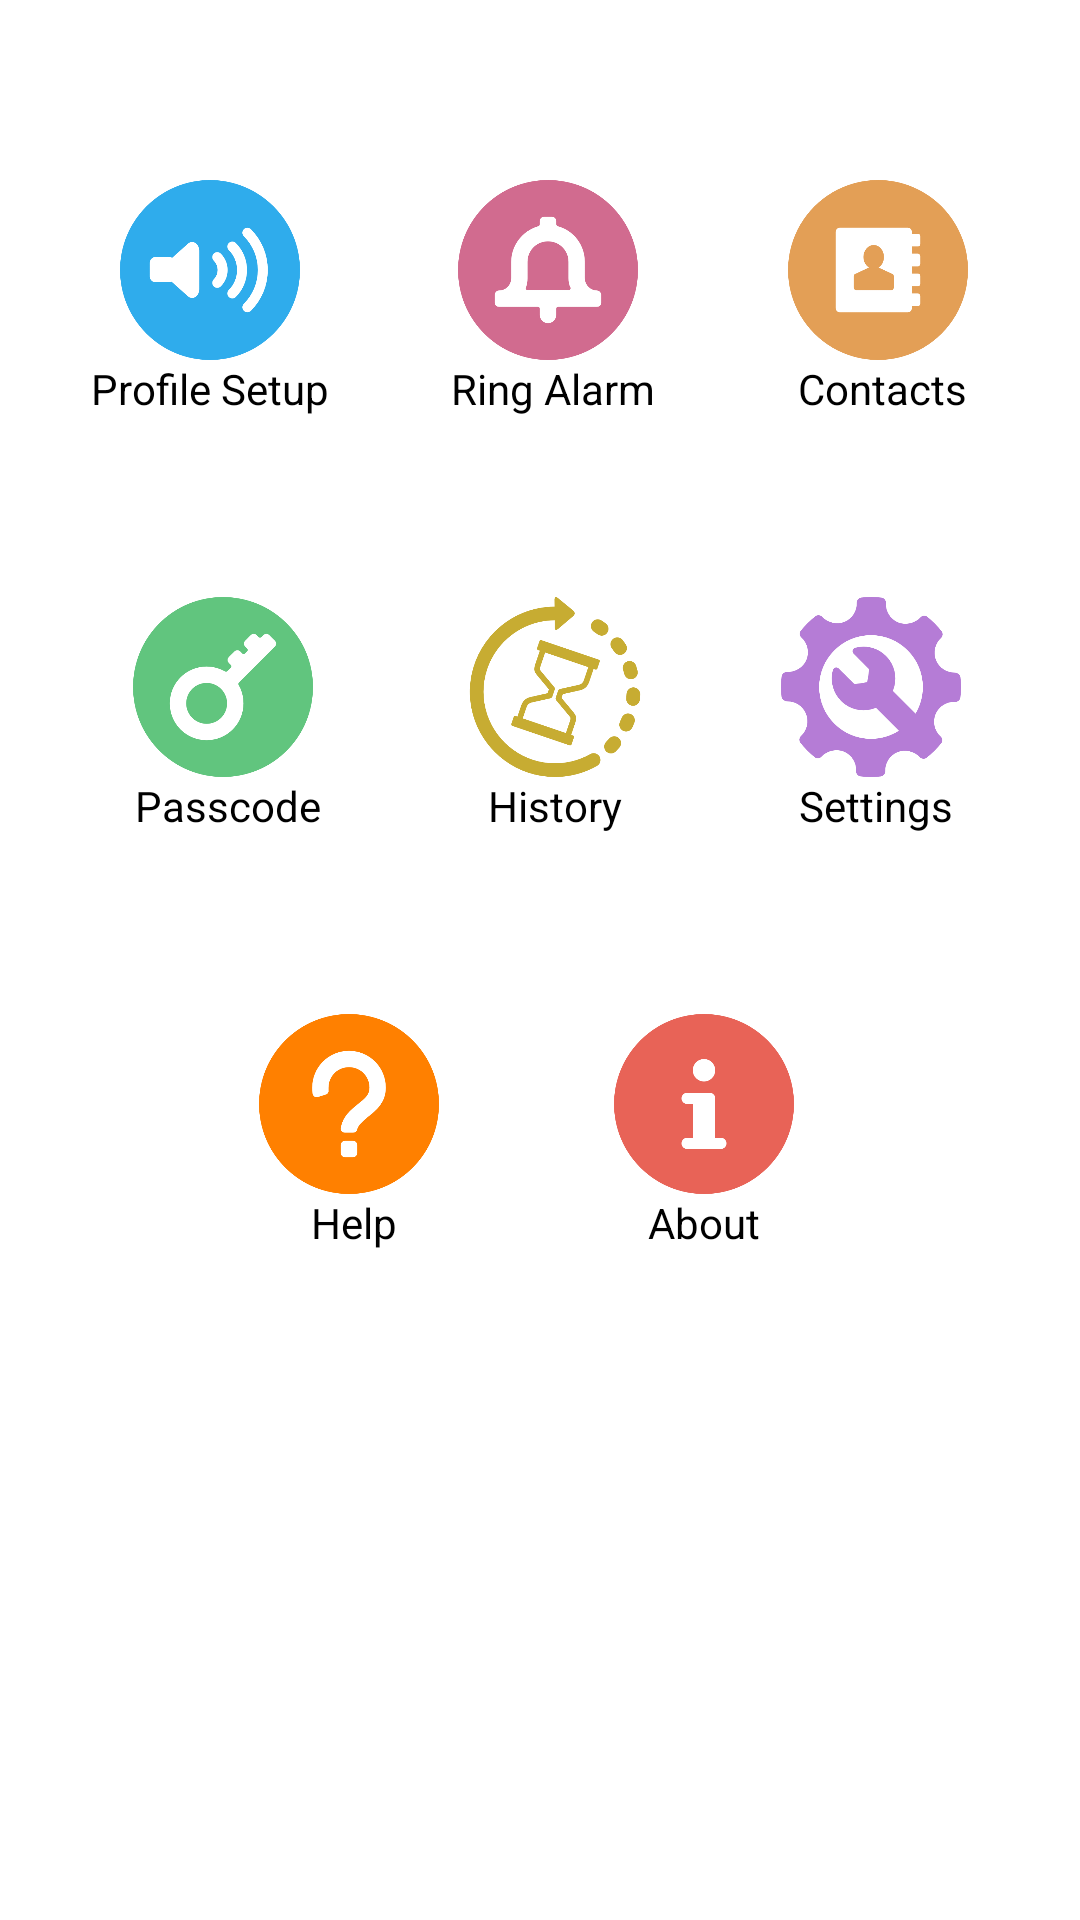

Locate icon controls on the screen. Image size 1080*1920, boxes as (x1, y1, x2, y2).
bell: (458, 180, 638, 360)
key: (133, 597, 313, 777)
question: (259, 1014, 439, 1194)
speaker: (120, 180, 300, 360)
